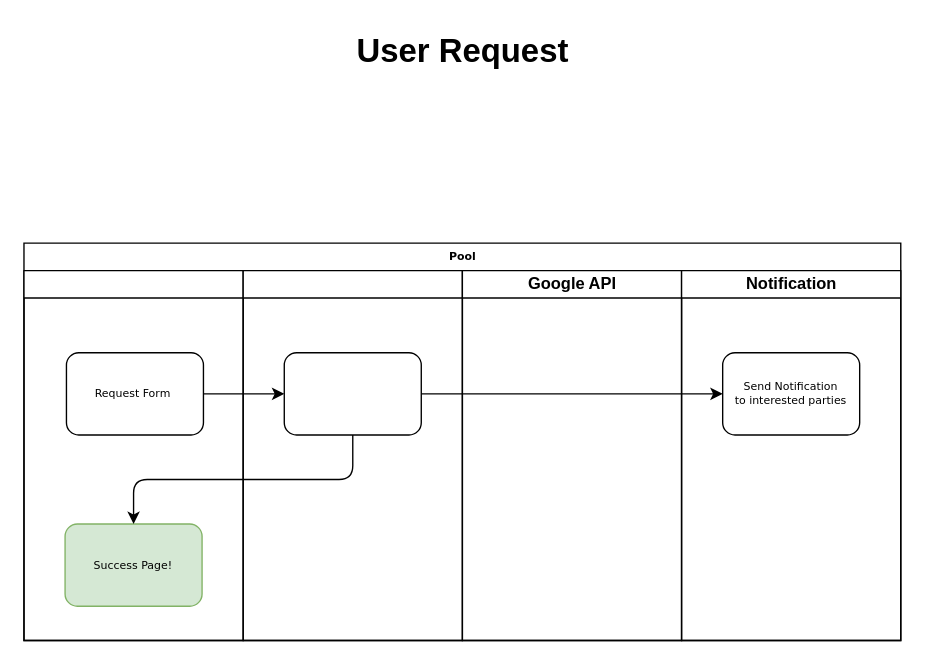
This 925x664 diagram has some shape labels left out. The shapes that lost their labels are listed below. From the top down, each one's box as (x1, y1, x2, y2) in pixels, then its label:
(283, 351, 421, 435): Create Request
(23, 269, 243, 640): CT Web
(242, 269, 462, 640): CT Server
